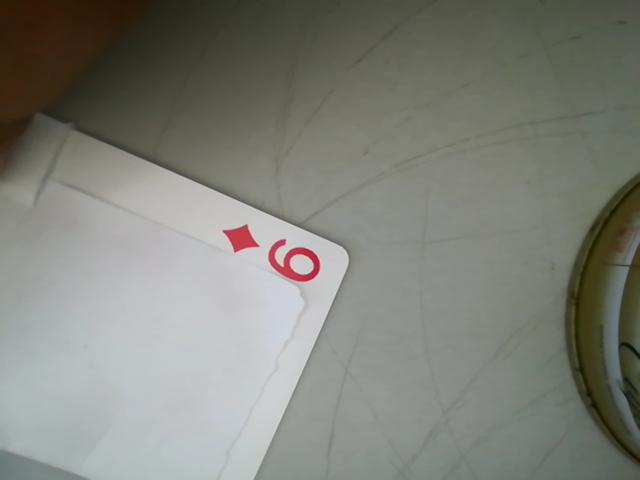fk 9: (218, 220, 343, 292)
